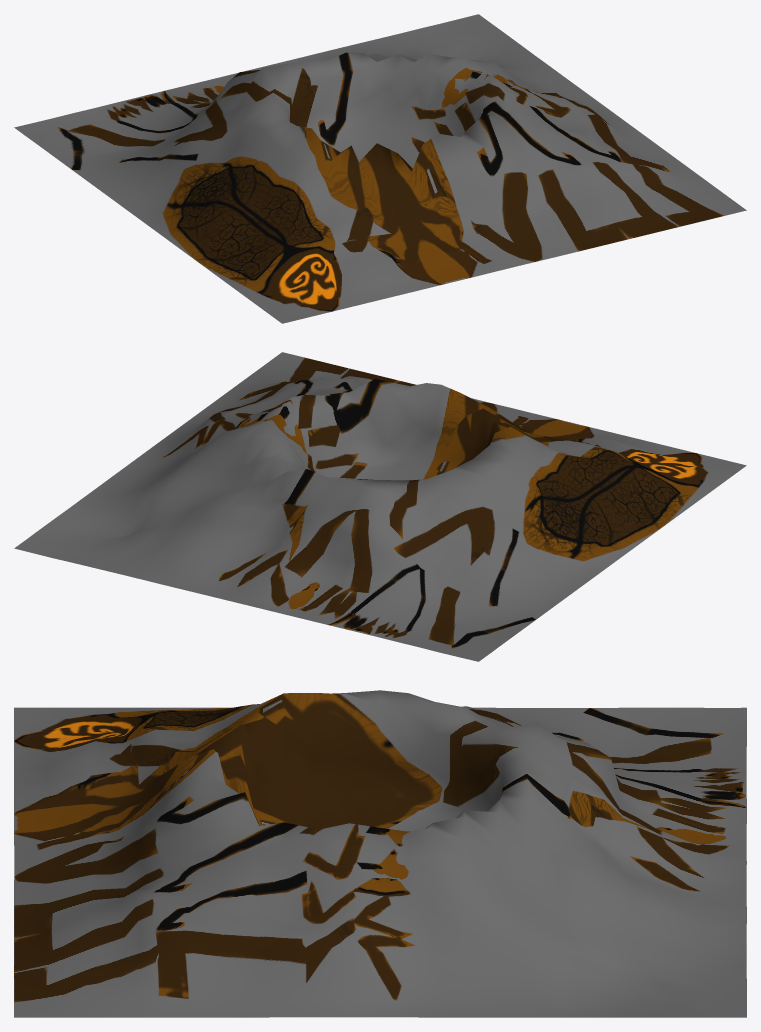
The model's file is HoleBase.fbx.
The picture shows the model from 3 angles, top to bottom: view 1: azimuth 30°, elevation 25°; view 2: azimuth 150°, elevation 25°; view 3: azimuth 270°, elevation 25°; orthographic projection. The views are drawn at different scales.
Visible parts, largest first — view 1: pPlane1; view 2: pPlane1; view 3: pPlane1.
Part boxes in pixels (left/top/right/bottom): pPlane1: left=14, top=14, right=746, bottom=323; pPlane1: left=14, top=352, right=746, bottom=661; pPlane1: left=14, top=690, right=746, bottom=1017.
Size of the model in its own units: 24 by 4.25 by 24.
